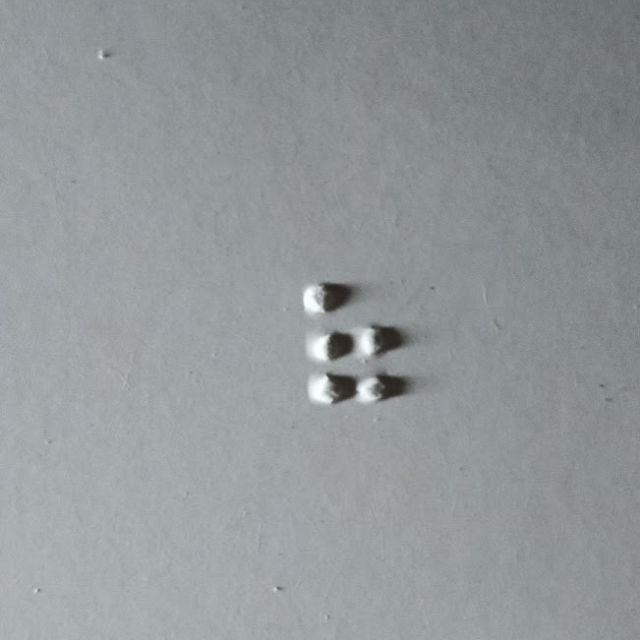han: (305, 281, 407, 403)
